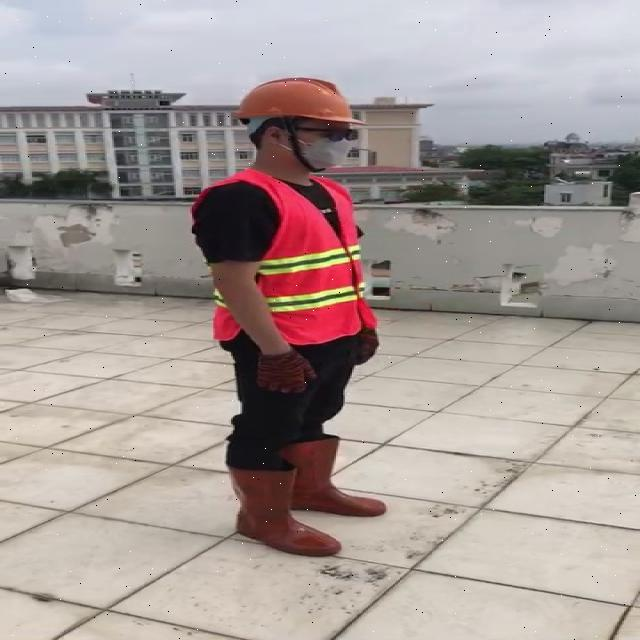Hard_hat: (224, 71, 366, 137)
Vest: (246, 167, 362, 344)
